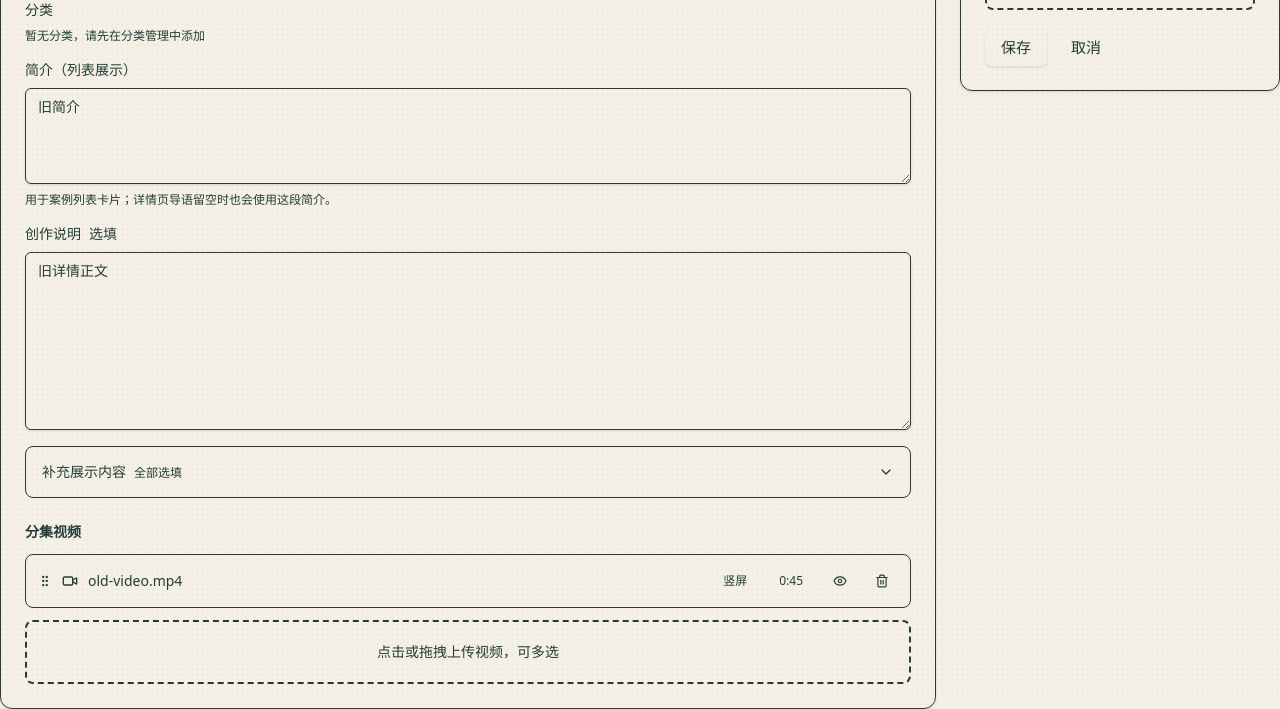
Test: removes an episode from the list
(page scrolled)
Expected: the text "old-video.mp4" is shown, [88,570,182,590]
Click the button named "移除old-video.mp4" at (882, 580), box [866,564,898,596]
(page scrolled)
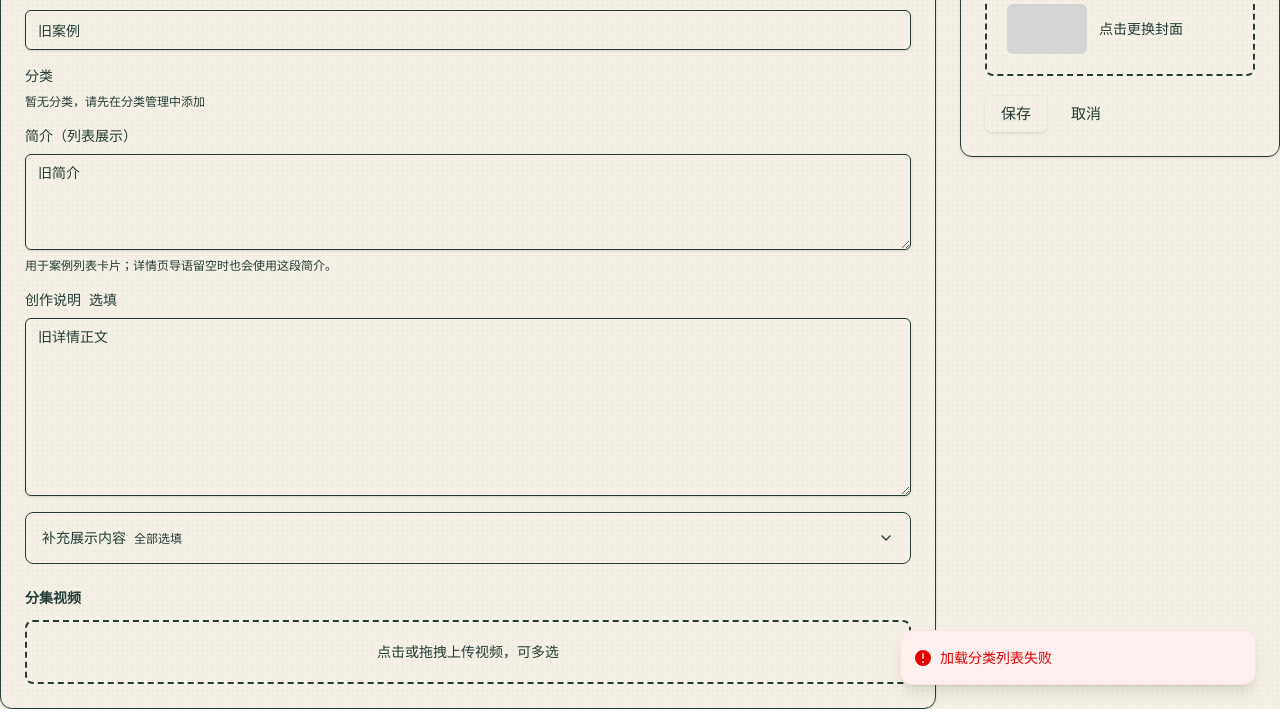
Expected: the text "old-video.mp4" is gone
